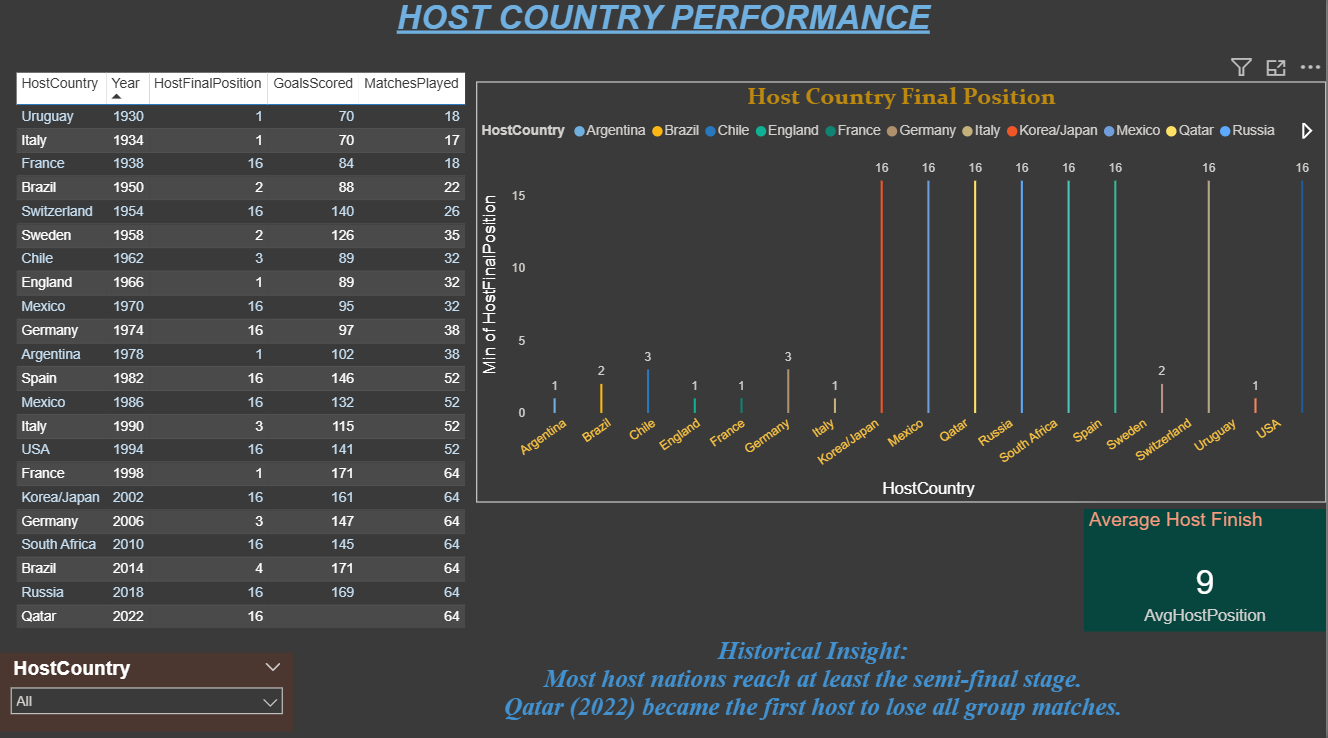

This screenshot's page, from the dashboard's own definition file:
{"tool":"powerbi","page":{"name":"Host Performances","canvas":[1280,720],"ordinal":1},"visuals":[{"type":"textbox","box":[9.6,0,279.9,167.4],"z":0},{"type":"textbox","box":[0,0,1280.3,59.6],"z":1000},{"type":"tableEx","fields":{"Values":["world_cups.HostCountry","world_cups.Year","world_cups.HostFinalPosition","world_cups.GoalsScored","world_cups.MatchesPlayed"]},"box":[9.6,71.4,450.1,547.5],"z":2000},{"type":"clusteredColumnChart","title":"Host Country Final Position ","fields":{"Category":["world_cups.HostCountry"],"Y":["Min(world_cups.HostFinalPosition)"],"Series":["world_cups.HostCountry"]},"box":[459.3,84,821,406.4],"z":3000},{"type":"card","title":"Average Host Finish","fields":{"Values":["world_cups.AvgHostPosition"]},"box":[1045.9,497.2,234.4,138.2],"z":4000},{"type":"slicer","fields":{"Values":["world_cups.HostCountry"]},"box":[0,635.4,283.2,75.9],"z":5000},{"type":"textbox","box":[289.9,615.1,990.4,104.3],"z":6000}]}

Visuals, with their boxes in screenshot pixels (x1, y1, x2, y2), scaled from the page's 1280x720 canvas onto the 1328x738 screenshot:
textbox: 10:0:300:172
textbox: 0:0:1327:61
tableEx - world_cups.HostCountry x world_cups.Year: 10:73:477:634
"Host Country Final Position " clusteredColumnChart: 477:86:1327:503
"Average Host Finish" card: 1085:510:1327:651
slicer - world_cups.HostCountry: 0:651:294:729
textbox: 301:630:1327:737
